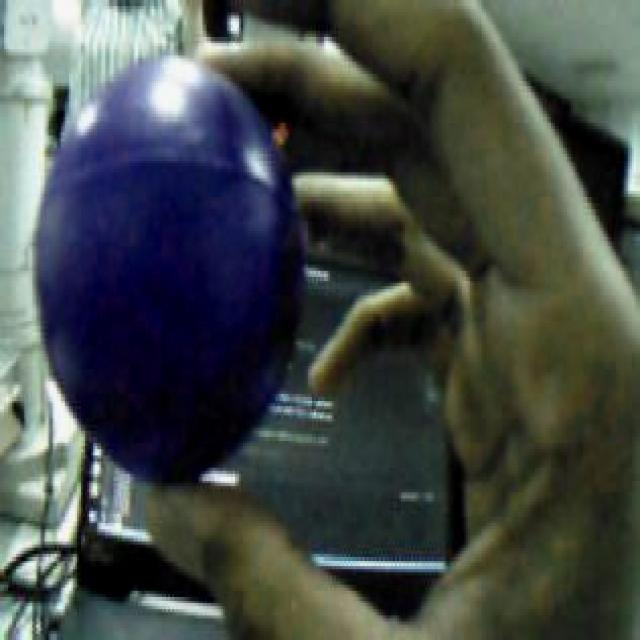BallPurple: (33, 58, 298, 477)
